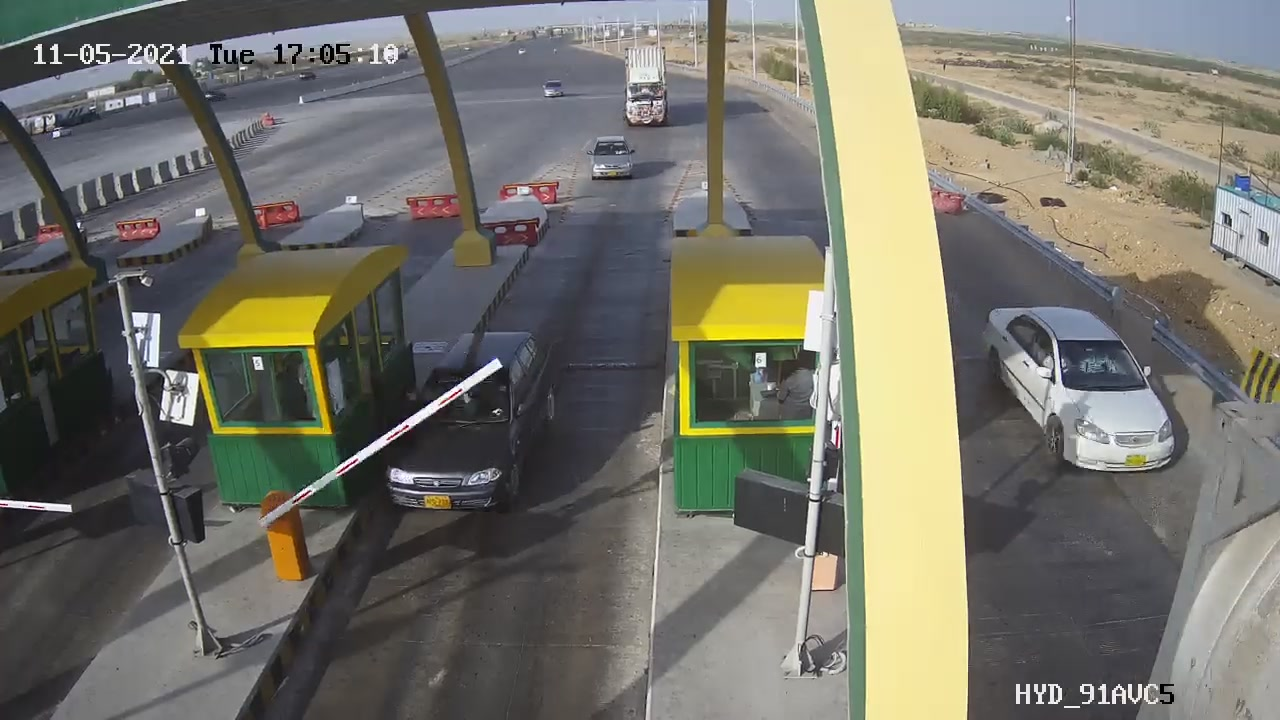F1: (368, 312, 569, 533)
